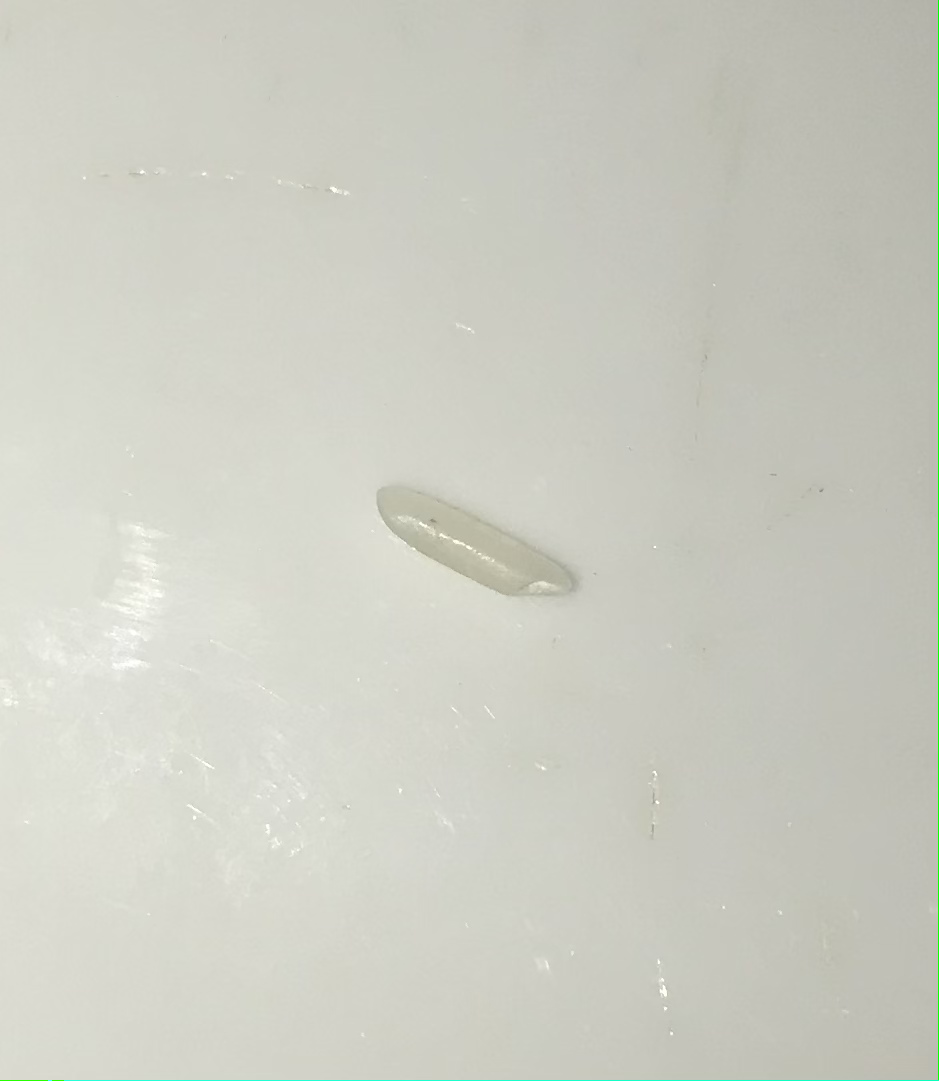Gao Ngoc Troi: (352, 461, 587, 625)
